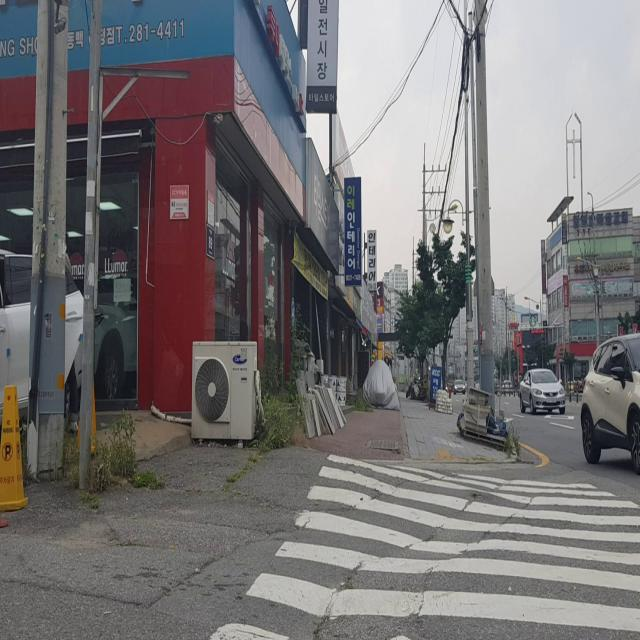횡단보도: (203, 449, 640, 640)
